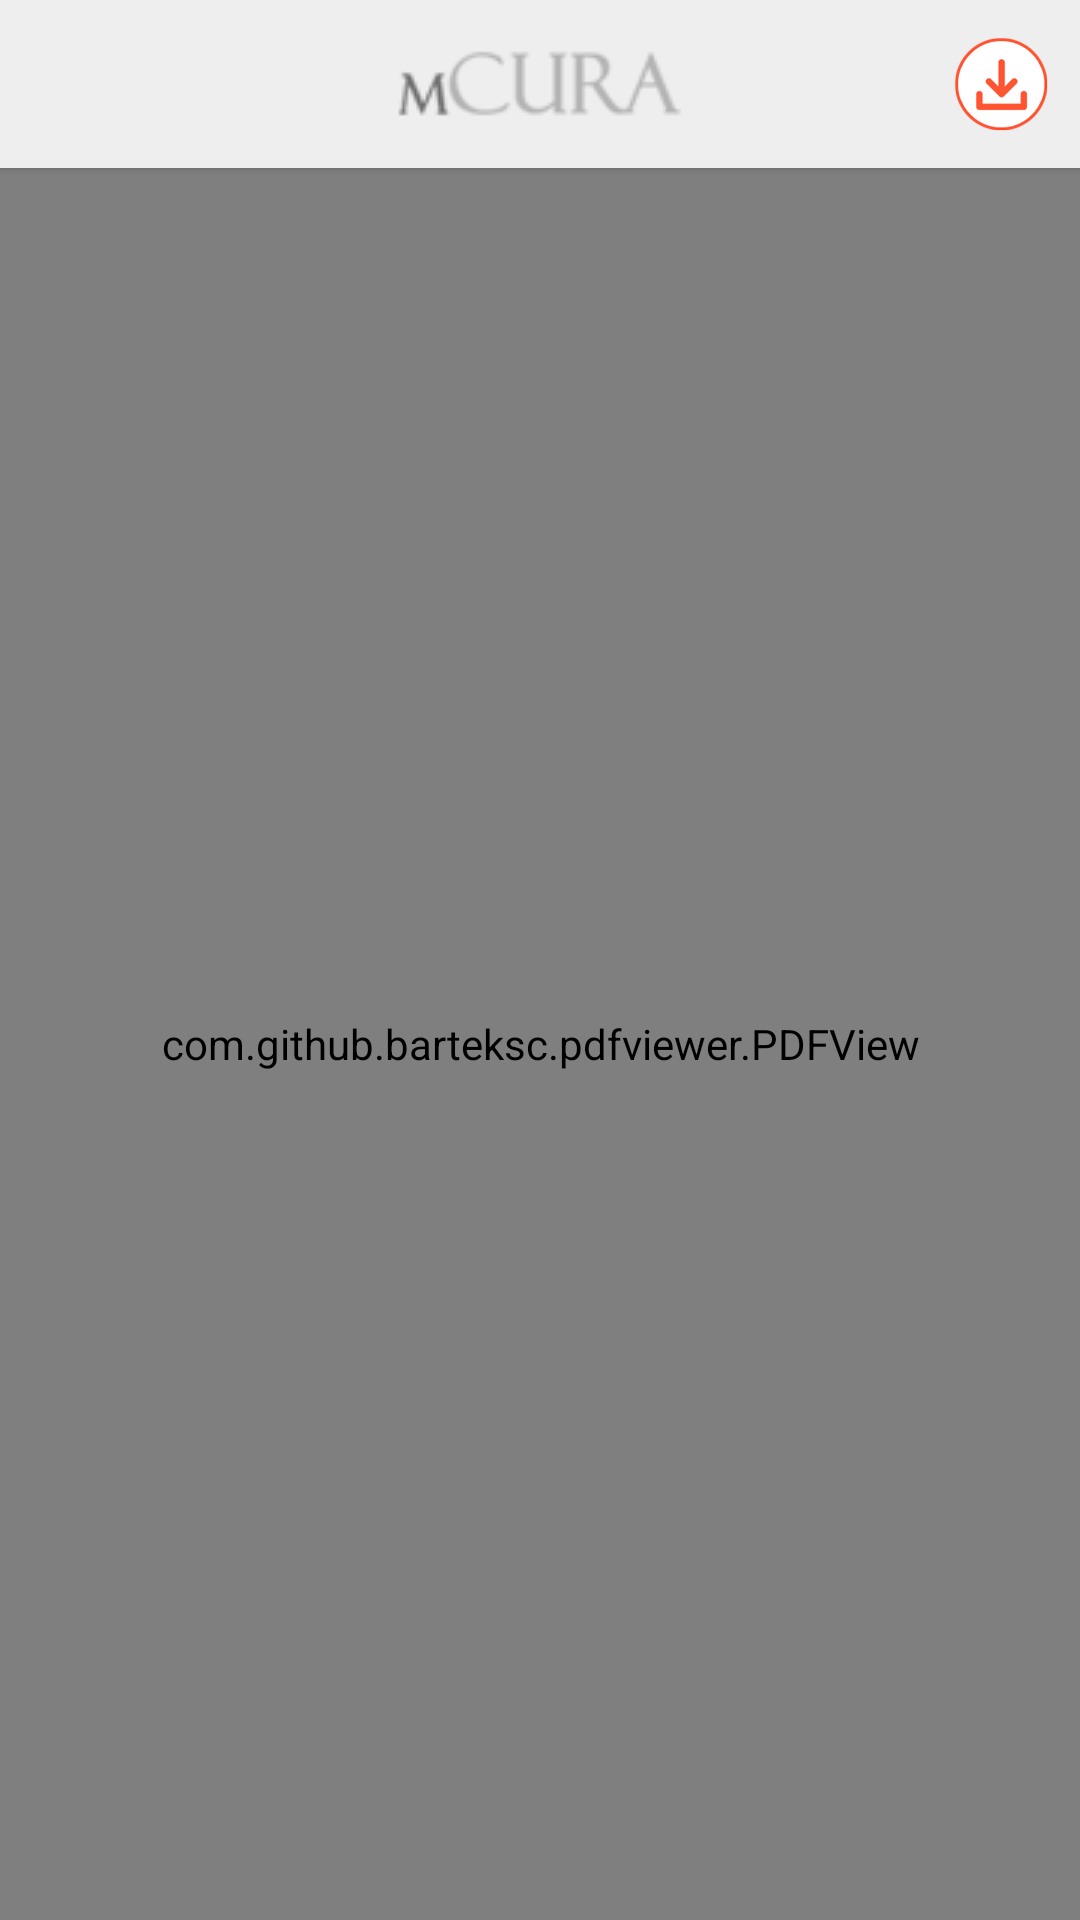

Icon bounding boxes for this 1080×1920 phone screenshot, format (x1, y1, x2, y2):
download: (955, 38, 1048, 131)
